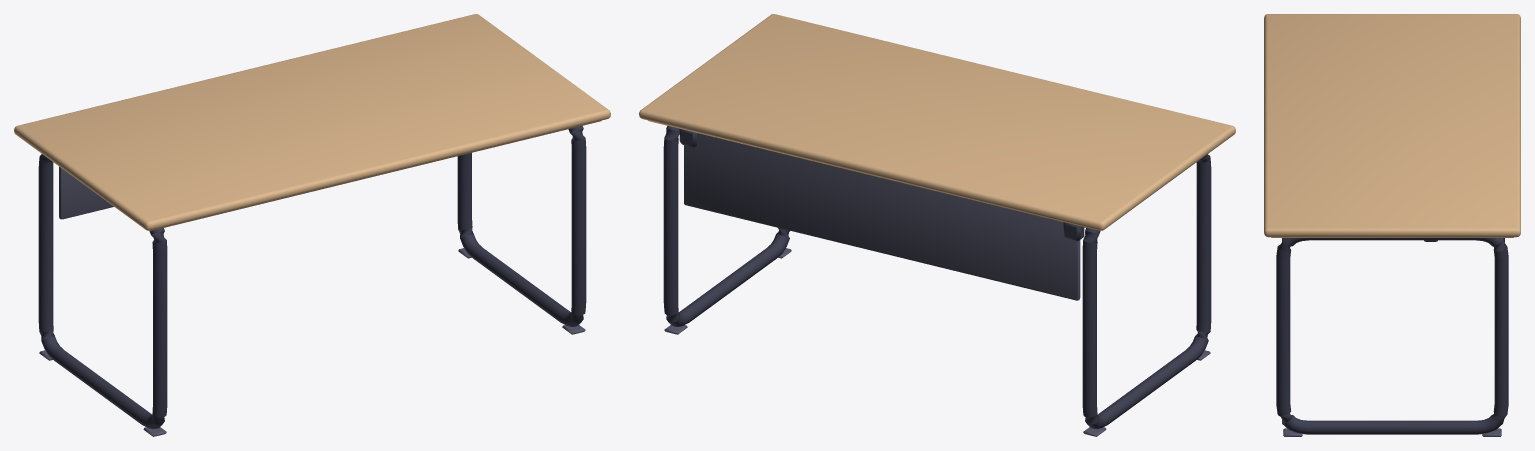
File: bench_desk.glb
The picture shows the model from 3 angles, left to right: view 1: azimuth 30°, elevation 25°; view 2: azimuth 150°, elevation 25°; view 3: azimuth 270°, elevation 25°; orthographic projection. The views are drawn at different scales.
Parts seen in each view (by area): view 1: oak, charcoal, slate, oak_dark; view 2: oak, slate, charcoal, oak_dark; view 3: oak, charcoal.
Part boxes in pixels (x1,y1,x2,y2): oak: [14, 14, 610, 230]; charcoal: [38, 126, 586, 429]; slate: [39, 166, 585, 436]; oak_dark: [150, 120, 601, 231]; oak: [639, 14, 1235, 230]; slate: [664, 133, 1210, 436]; charcoal: [663, 126, 1211, 429]; oak_dark: [648, 120, 1099, 231]; oak: [1264, 14, 1520, 237]; charcoal: [1276, 238, 1508, 434].
Size of the model in its own units: 1.6 by 0.74 by 0.8.
